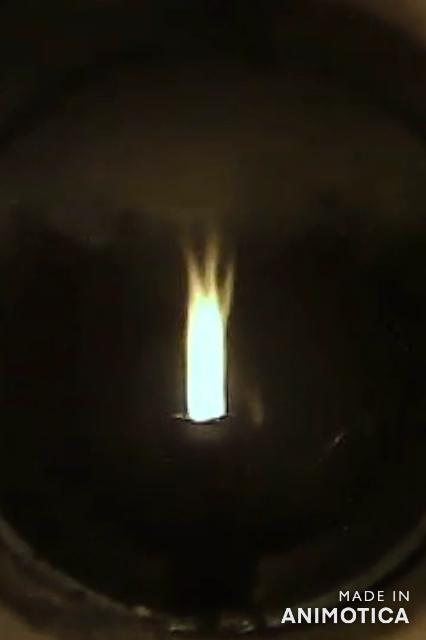burner flame: (174, 231, 242, 427)
